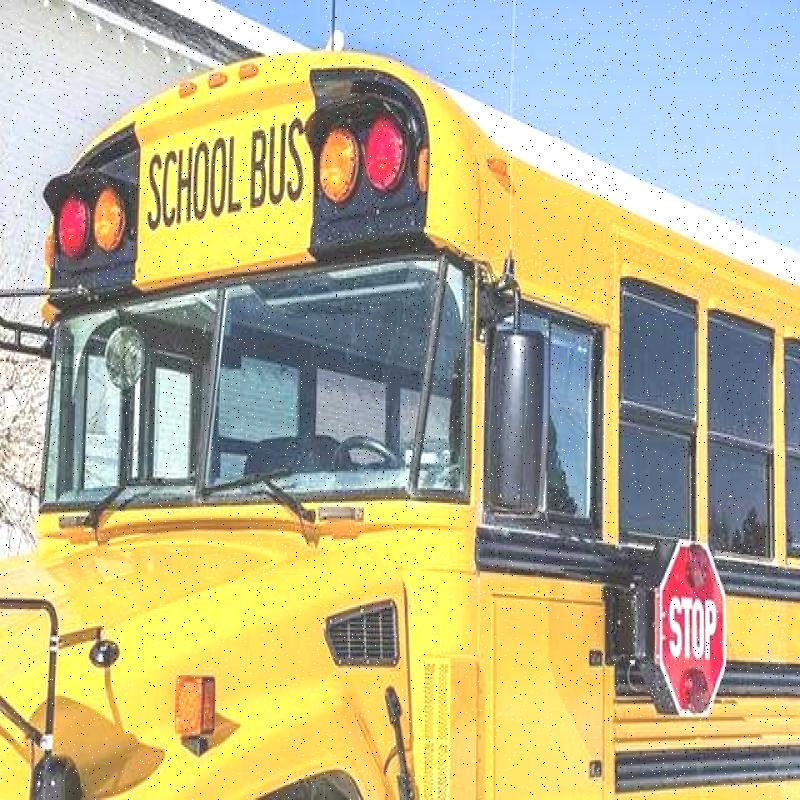bus: (24, 49, 800, 798)
